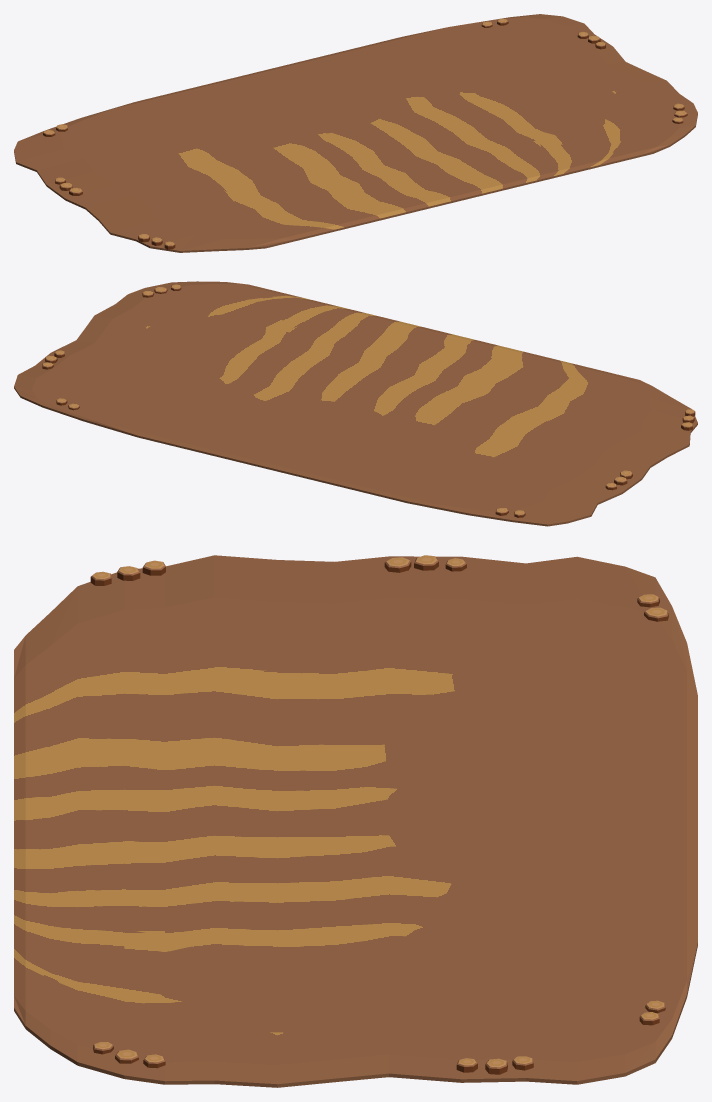
File: VehicleYard.glb
The picture shows the model from 3 angles, top to bottom: view 1: azimuth 30°, elevation 25°; view 2: azimuth 150°, elevation 25°; view 3: azimuth 270°, elevation 25°; orthographic projection. The views are drawn at different scales.
Visible parts, largest first — view 1: VehicleYard_Ground, VehicleYard_LogEnds; view 2: VehicleYard_Ground, VehicleYard_LogEnds; view 3: VehicleYard_Ground, VehicleYard_LogEnds.
Boxes of the visible parts, x1=… form: VehicleYard_Ground: x1=14, y1=14, x2=697, y2=252; VehicleYard_LogEnds: x1=43, y1=18, x2=687, y2=249; VehicleYard_Ground: x1=14, y1=281, x2=697, y2=526; VehicleYard_LogEnds: x1=42, y1=284, x2=695, y2=517; VehicleYard_Ground: x1=14, y1=555, x2=697, y2=1087; VehicleYard_LogEnds: x1=90, y1=555, x2=668, y2=1074.
Size of the model in its own units: 23.28 by 0.2337 by 12.73.
Materials: 1 (1 with a texture image).
